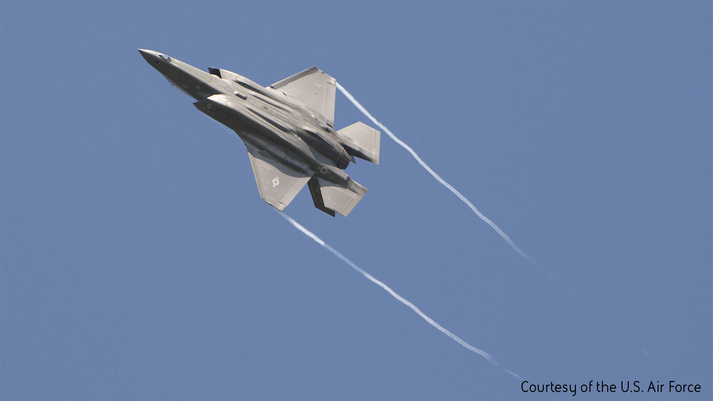F-35 Lightning: (135, 25, 404, 245)
